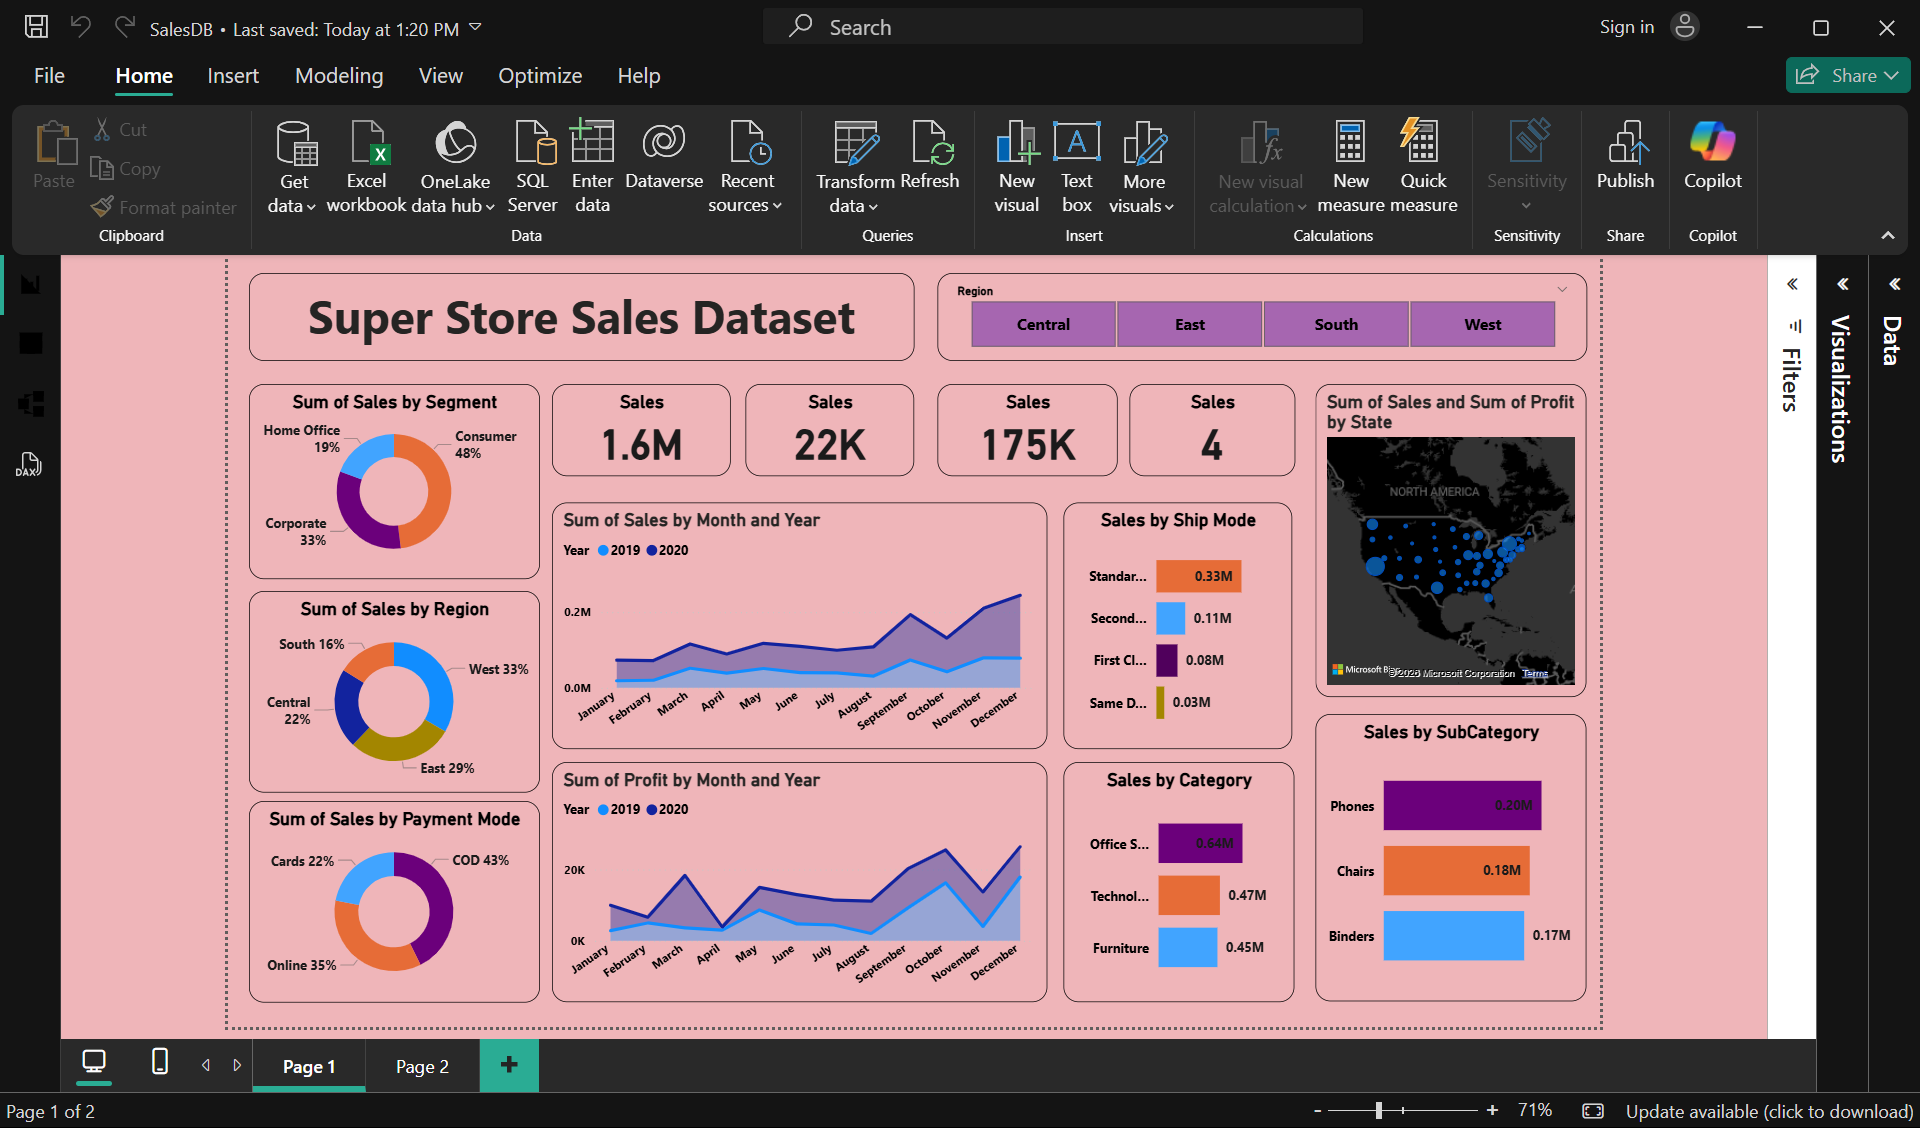

Layout of this report page (visuals, bound fields, positions):
{"tool":"powerbi","page":{"name":"Page 1","canvas":[1280,720],"ordinal":0},"visuals":[{"type":"clusteredBarChart","title":" Sales by Category","fields":{"Category":["SuperStore_Sales_Dataset.Category"],"Y":["Sum(SuperStore_Sales_Dataset.Sales)"]},"box":[779.8,472.4,215,224.1],"z":0},{"type":"clusteredBarChart","title":" Sales by SubCategory","fields":{"Category":["SuperStore_Sales_Dataset.Sub-Category","SuperStore_Sales_Dataset.Category"],"Y":["Sum(SuperStore_Sales_Dataset.Sales)"]},"box":[1014.5,428.5,252.9,268],"z":1000},{"type":"clusteredBarChart","title":" Sales by Ship Mode","fields":{"Y":["Sum(SuperStore_Sales_Dataset.Sales)"],"Category":["SuperStore_Sales_Dataset.Ship Mode"]},"box":[779.8,230.2,213.5,230.2],"z":2000},{"type":"stackedAreaChart","fields":{"Category":["SuperStore_Sales_Dataset.Order Date.Variation.Date Hierarchy.Month","SuperStore_Sales_Dataset.Order Date.Variation.Date Hierarchy.Day"],"Y":["Sum(SuperStore_Sales_Dataset.Sales)"],"Series":["SuperStore_Sales_Dataset.Order Date.Variation.Date Hierarchy.Year"]},"box":[302.8,230.2,461.8,230.2],"z":3000},{"type":"stackedAreaChart","fields":{"Category":["SuperStore_Sales_Dataset.Order Date.Variation.Date Hierarchy.Month","SuperStore_Sales_Dataset.Order Date.Variation.Date Hierarchy.Day"],"Series":["SuperStore_Sales_Dataset.Order Date.Variation.Date Hierarchy.Year"],"Y":["Sum(SuperStore_Sales_Dataset.Profit)"]},"box":[302.8,472.4,461.8,224.1],"z":3001},{"type":"map","fields":{"Category":["SuperStore_Sales_Dataset.State"],"Size":["Sum(SuperStore_Sales_Dataset.Sales)"]},"box":[1014.5,119.6,252.9,292.2],"z":3002},{"type":"donutChart","fields":{"Category":["SuperStore_Sales_Dataset.Segment"],"Y":["Sum(SuperStore_Sales_Dataset.Sales)"]},"box":[19.7,119.6,271,181.7],"z":3003},{"type":"donutChart","fields":{"Y":["Sum(SuperStore_Sales_Dataset.Sales)"],"Category":["SuperStore_Sales_Dataset.Payment Mode"]},"box":[19.7,508.8,271,187.8],"z":3004},{"type":"slicer","fields":{"Values":["SuperStore_Sales_Dataset.Region"]},"box":[661.7,16.7,605.7,81.8],"z":3005},{"type":"card","title":"Sales","fields":{"Values":["Sum(SuperStore_Sales_Dataset.Sales)"]},"box":[302.8,119.6,166.6,86.3],"z":3007},{"type":"card","title":"Sales","fields":{"Values":["Sum(SuperStore_Sales_Dataset.Quantity)"]},"box":[483,119.6,157.5,86.3],"z":3008},{"type":"card","title":"Sales","fields":{"Values":["Sum(SuperStore_Sales_Dataset.Profit)"]},"box":[661.7,119.6,168.1,86.3],"z":3009},{"type":"card","title":"Sales","fields":{"Values":["Avg(SuperStore_Sales_Dataset.AvgDelivery)"]},"box":[840.4,119.6,154.4,86.3],"z":3010},{"type":"donutChart","fields":{"Y":["Sum(SuperStore_Sales_Dataset.Sales)"],"Category":["SuperStore_Sales_Dataset.Region","SuperStore_Sales_Dataset.Payment Mode"]},"box":[19.7,313.4,271,187.8],"z":3011},{"type":"textbox","box":[19.7,16.7,620.8,81.8],"z":3012}]}

Visuals, with their boxes on the page's 1280x720 design canvas (x1, y1, x2, y2). These are canvas units, not pixel positions in the 1920x1128 screenshot, which may show the page scaled, cropped or inside an application window:
" Sales by Category" clusteredBarChart: <region>780, 472, 995, 696</region>
" Sales by SubCategory" clusteredBarChart: <region>1014, 428, 1267, 696</region>
" Sales by Ship Mode" clusteredBarChart: <region>780, 230, 993, 460</region>
stackedAreaChart - SuperStore_Sales_Dataset.Order Date.Variation.Date Hierarchy.Month x SuperStore_Sales_Dataset.Order Date.Variation.Date Hierarchy.Day: <region>303, 230, 765, 460</region>
stackedAreaChart - SuperStore_Sales_Dataset.Order Date.Variation.Date Hierarchy.Month x SuperStore_Sales_Dataset.Order Date.Variation.Date Hierarchy.Day: <region>303, 472, 765, 696</region>
map - SuperStore_Sales_Dataset.State x Sum(SuperStore_Sales_Dataset.Sales): <region>1014, 120, 1267, 412</region>
donutChart - SuperStore_Sales_Dataset.Segment x Sum(SuperStore_Sales_Dataset.Sales): <region>20, 120, 291, 301</region>
donutChart - Sum(SuperStore_Sales_Dataset.Sales) x SuperStore_Sales_Dataset.Payment Mode: <region>20, 509, 291, 697</region>
slicer - SuperStore_Sales_Dataset.Region: <region>662, 17, 1267, 98</region>
"Sales" card: <region>303, 120, 469, 206</region>
"Sales" card: <region>483, 120, 640, 206</region>
"Sales" card: <region>662, 120, 830, 206</region>
"Sales" card: <region>840, 120, 995, 206</region>
donutChart - Sum(SuperStore_Sales_Dataset.Sales) x SuperStore_Sales_Dataset.Region: <region>20, 313, 291, 501</region>
textbox: <region>20, 17, 640, 98</region>
